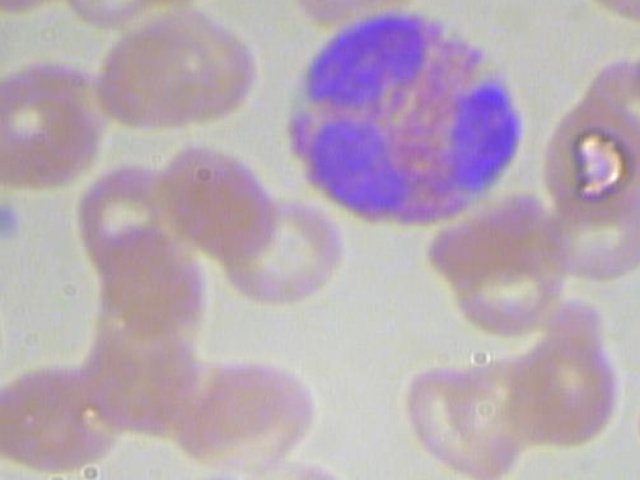Platelets: (0, 197, 31, 252), (631, 462, 640, 480)
RBC: (85, 4, 263, 144), (149, 138, 282, 260), (388, 360, 522, 480), (504, 324, 624, 454), (532, 88, 640, 230), (210, 197, 348, 307), (0, 60, 102, 197), (534, 180, 640, 291), (633, 368, 640, 477)
WBC: (271, 0, 534, 235)
